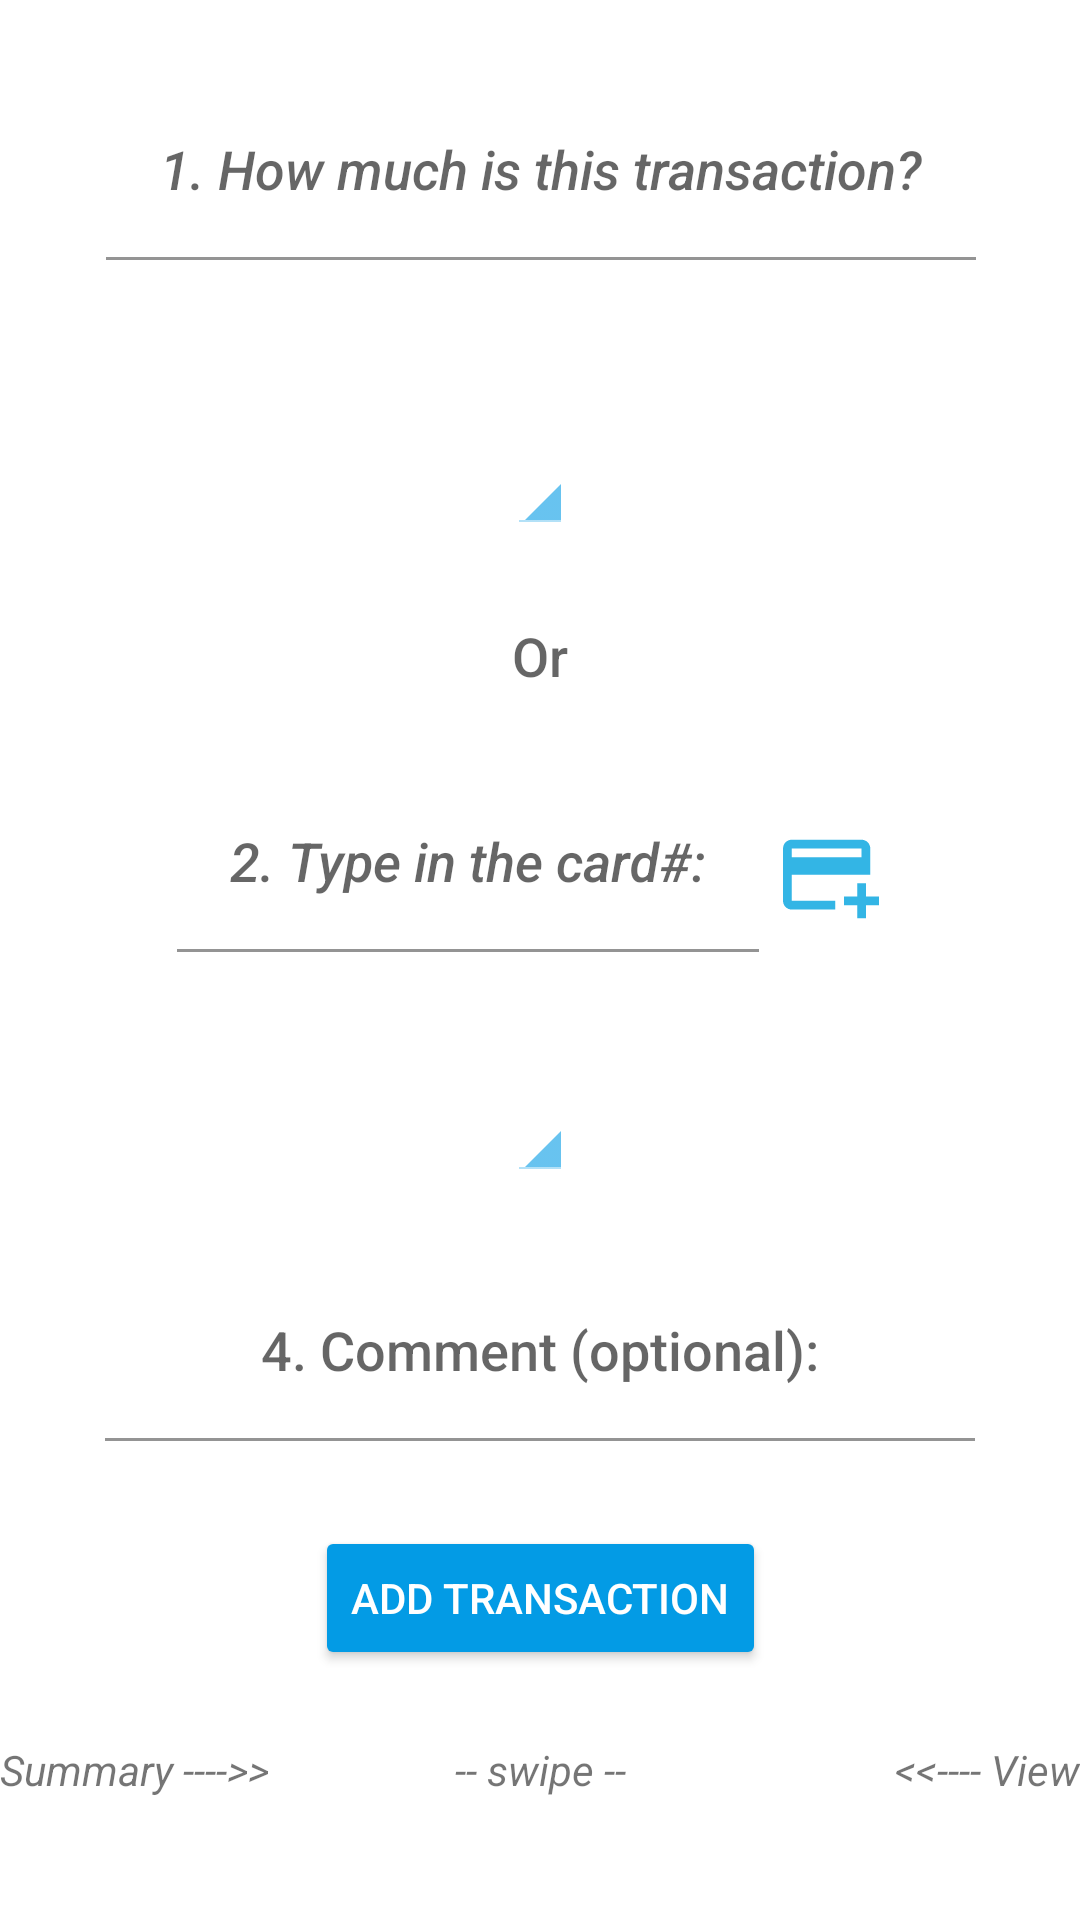

Named icons in this screenshot (1080 x 1920) and their bounding boxes, (x1, y1, x2, y2):
add card: (783, 839, 879, 919)
